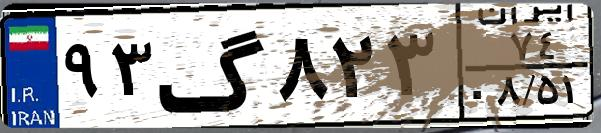0: (470, 70, 495, 125)
1: (560, 70, 590, 125)
2: (330, 28, 385, 110)
3: (385, 28, 445, 110), (110, 28, 156, 98)
4: (537, 27, 568, 80)
5: (535, 70, 560, 125)
7: (508, 27, 537, 80)
8: (270, 28, 330, 110), (495, 70, 520, 125)
9: (57, 26, 110, 100)
گ: (156, 12, 270, 120)
